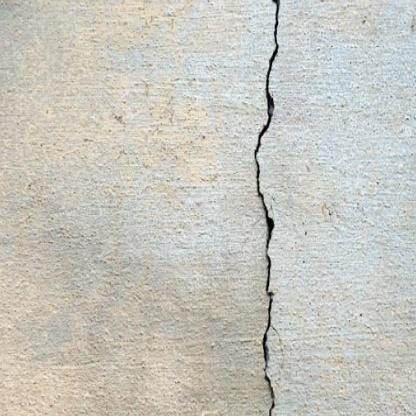Cracks: (251, 0, 285, 416)
